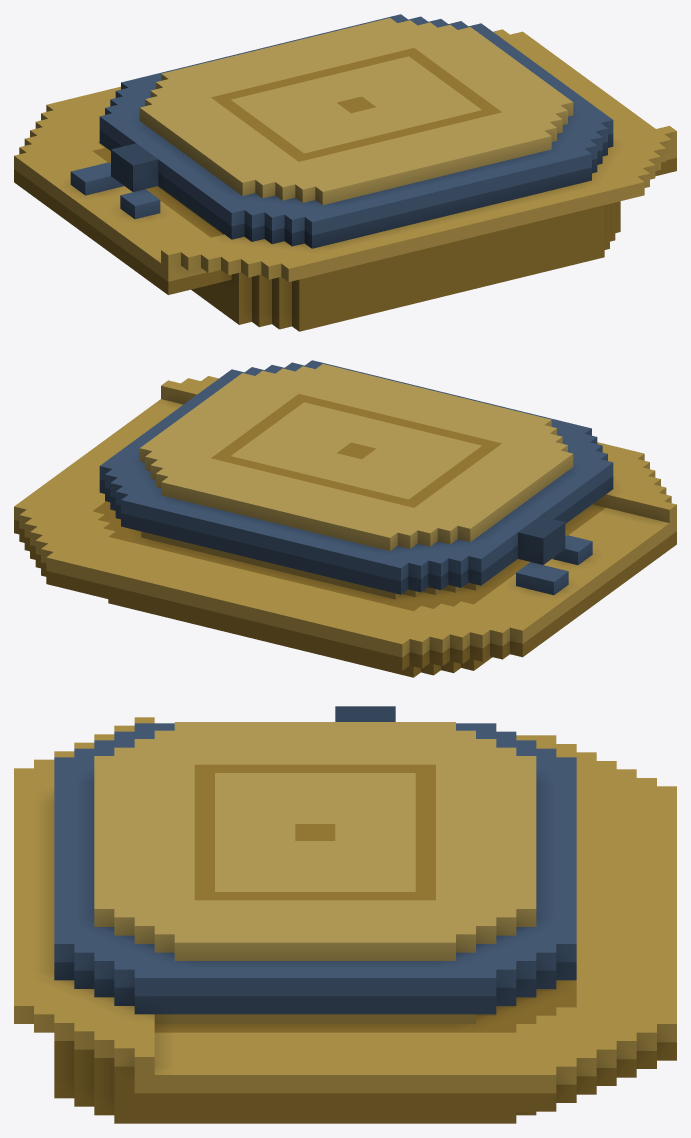
The model's file is hat_farmer.glb.
The picture shows the model from 3 angles, top to bottom: view 1: azimuth 30°, elevation 25°; view 2: azimuth 150°, elevation 25°; view 3: azimuth 270°, elevation 25°; orthographic projection. The views are drawn at different scales.
Visible parts, largest first — view 1: VoxelVisual; view 2: VoxelVisual; view 3: VoxelVisual.
Boxes of the visible parts, x1,y1,x2,y2 form: VoxelVisual: (14,14,676,331); VoxelVisual: (14,360,676,677); VoxelVisual: (14,706,676,1123).
Size of what is drawn, in the model's own units: 2.5 by 0.5625 by 2.06.
